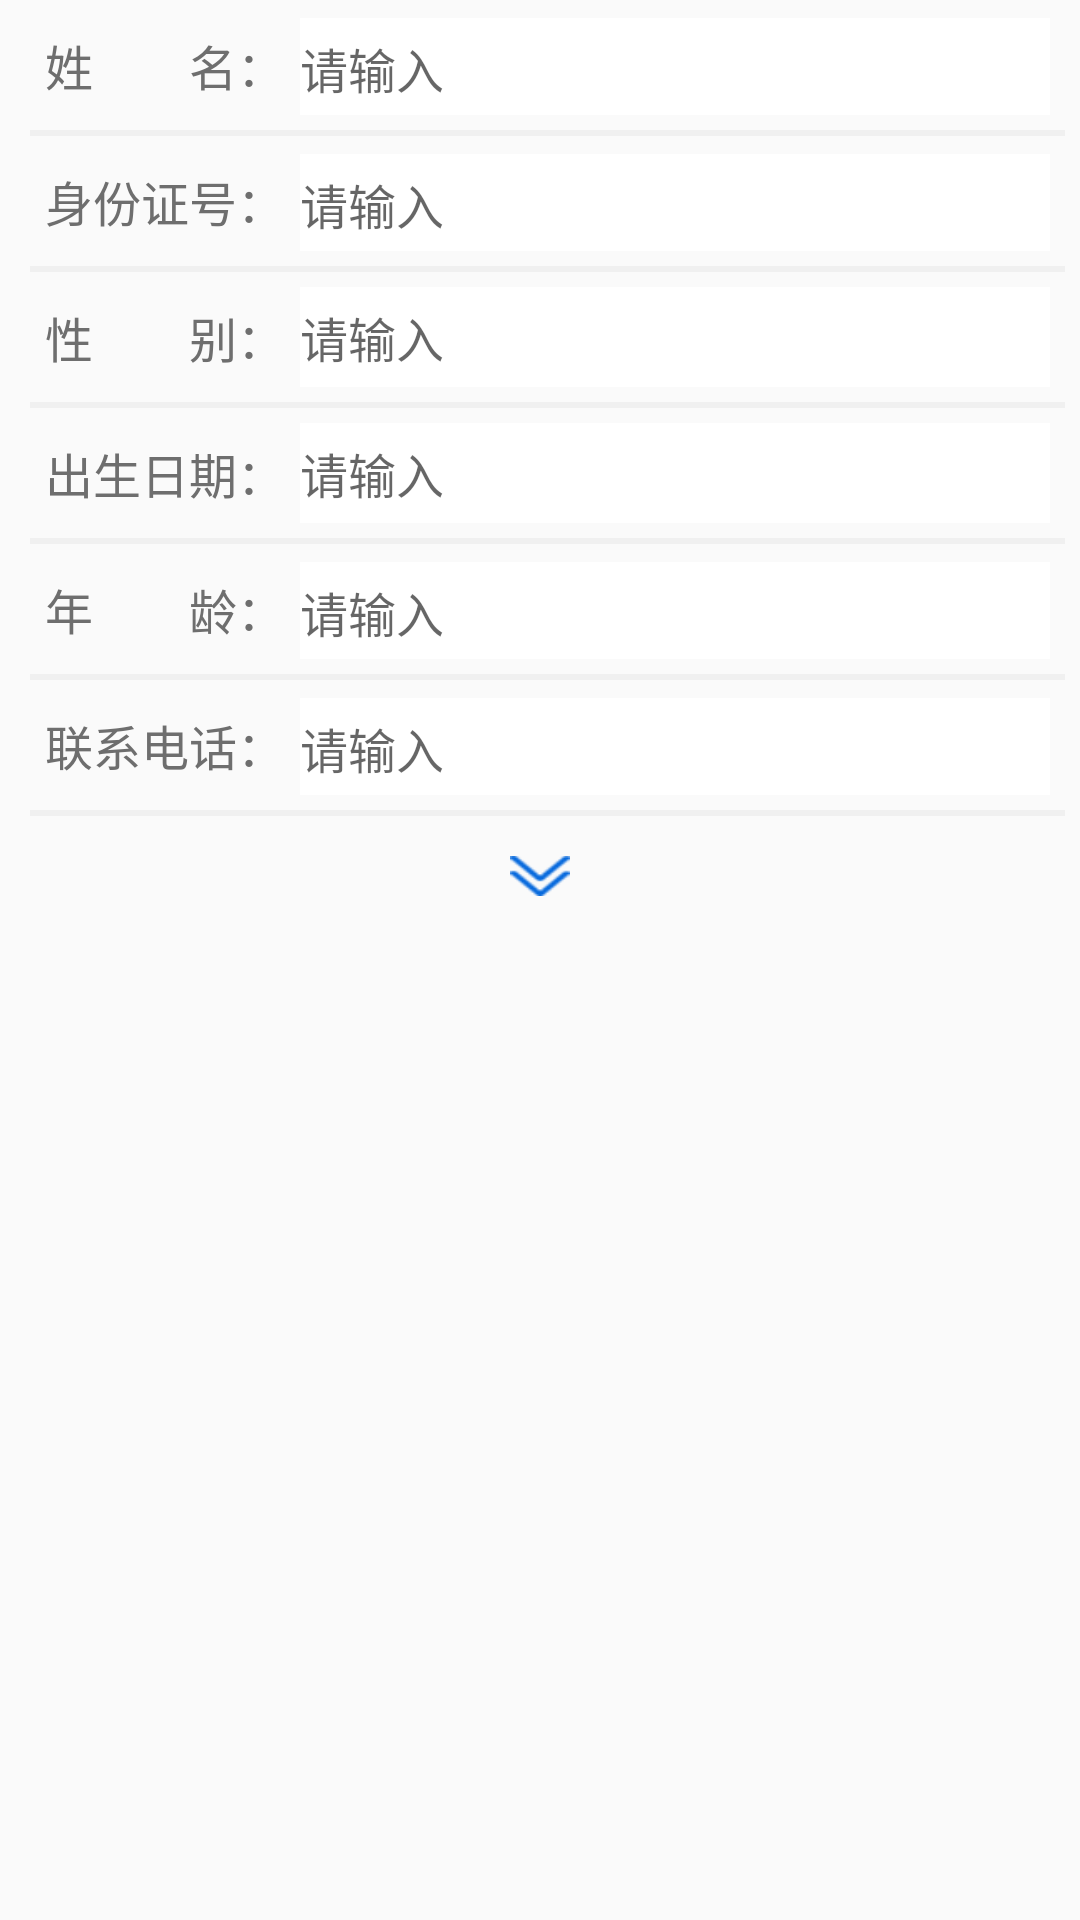

Icons on this 1080w x 1920h Android screen, each with the point to tap as (x,y):
pull down: (540,876)
